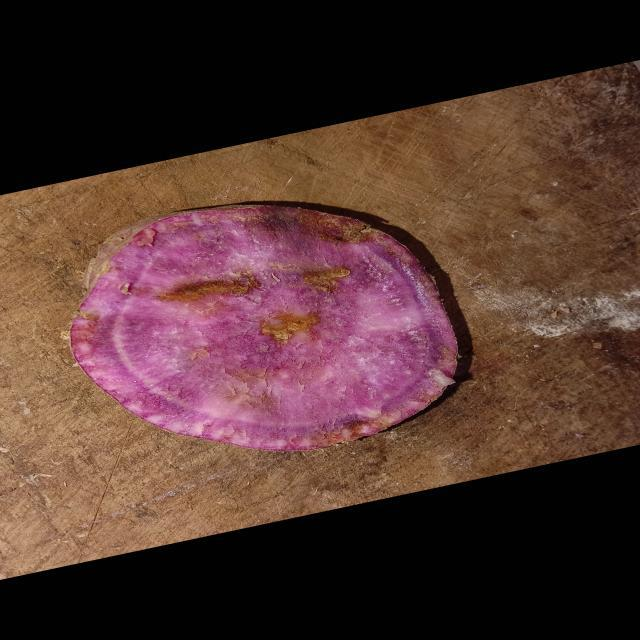Sick Sweet Potato_Tuber Rot: (71, 205, 458, 450)
